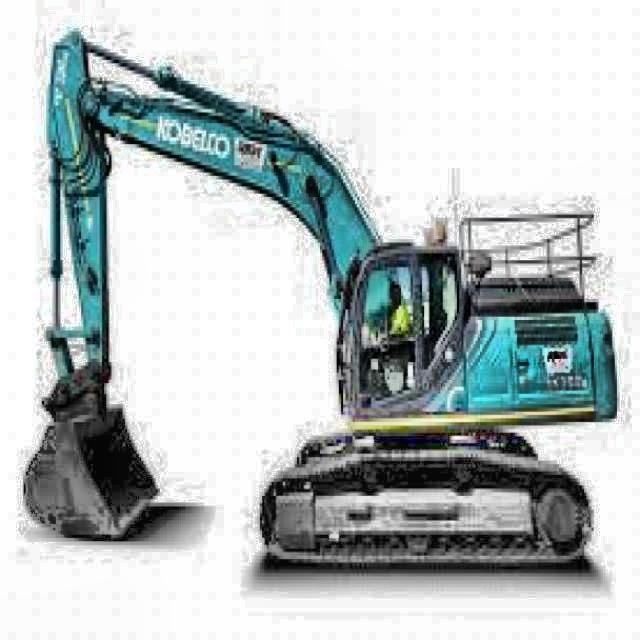bull_dozer/loader/grader: (20, 29, 619, 576)
person: (382, 272, 412, 340)
